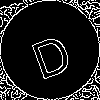D: (25, 25, 75, 81)
